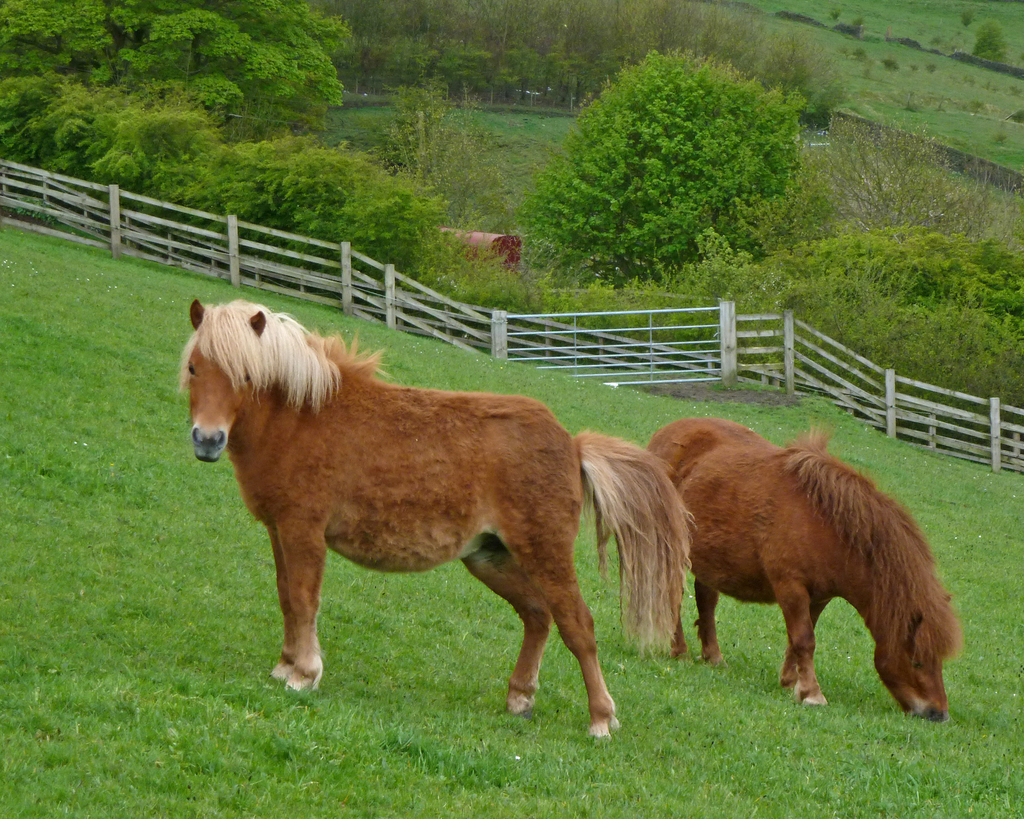horse: (178, 298, 698, 744)
